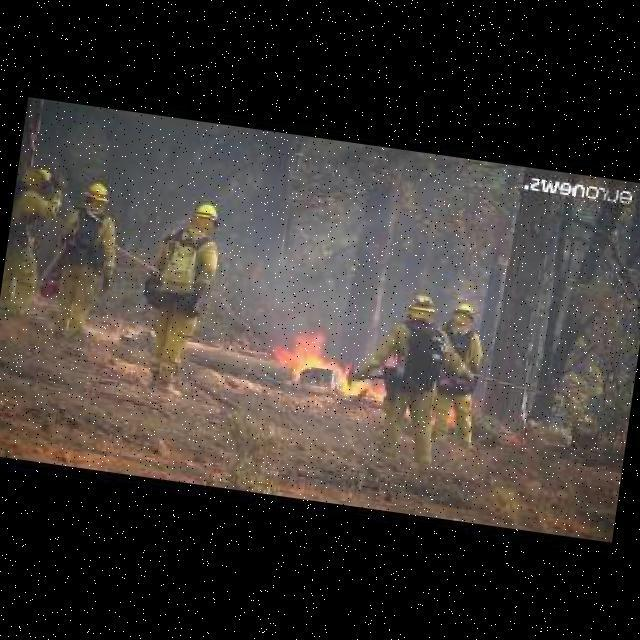Fire: (262, 325, 386, 405), (447, 407, 455, 424)
